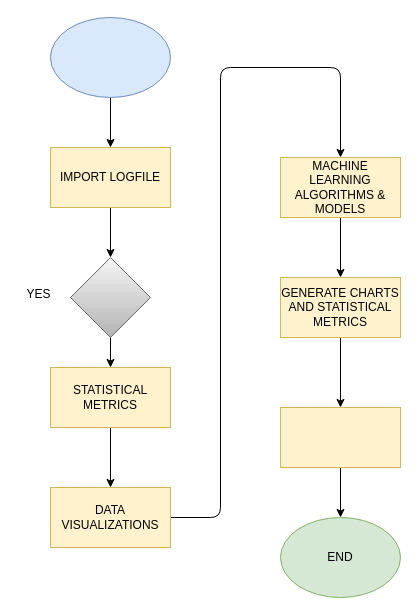
This 418x615 diagram has some shape labels left out. The shapes that lost their labels are listed below. From the top down, each one's centre as x and y in pixels, then its label:
At pixel 110 57: "START".
At pixel 110 297: "READ LOGFILE".
At pixel 340 437: "MAKE DECISION".
